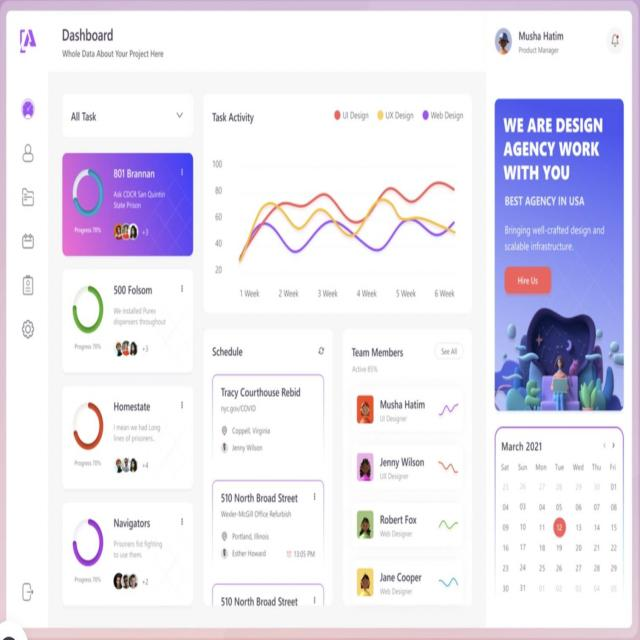button: (506, 266, 552, 293)
select: (62, 92, 193, 137)
